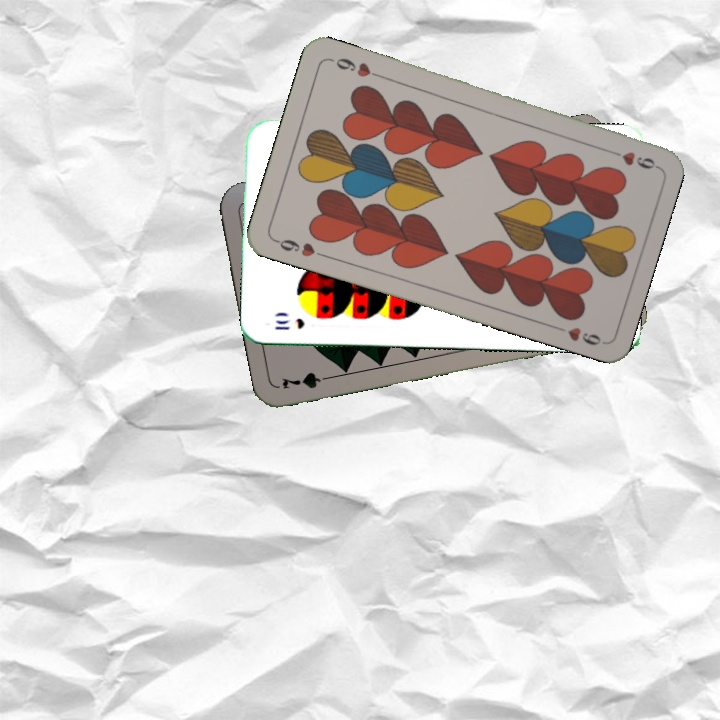G7: (278, 368, 337, 392)
H9: (601, 144, 659, 172), (270, 235, 328, 260)
S10: (271, 314, 307, 332)
